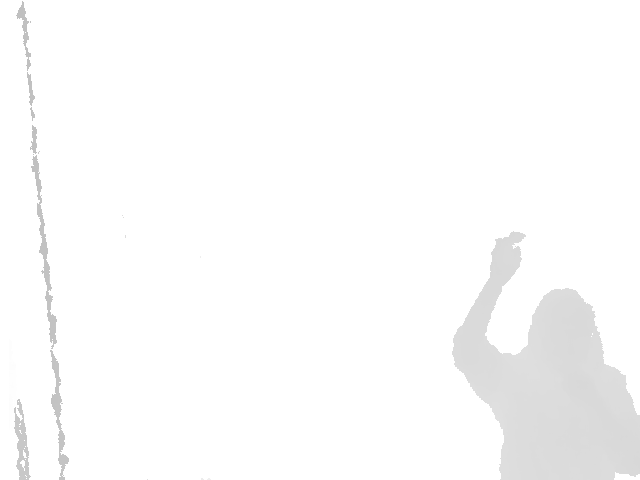hand: (491, 231, 526, 283)
head: (527, 288, 604, 358)
person: (451, 231, 640, 479)
